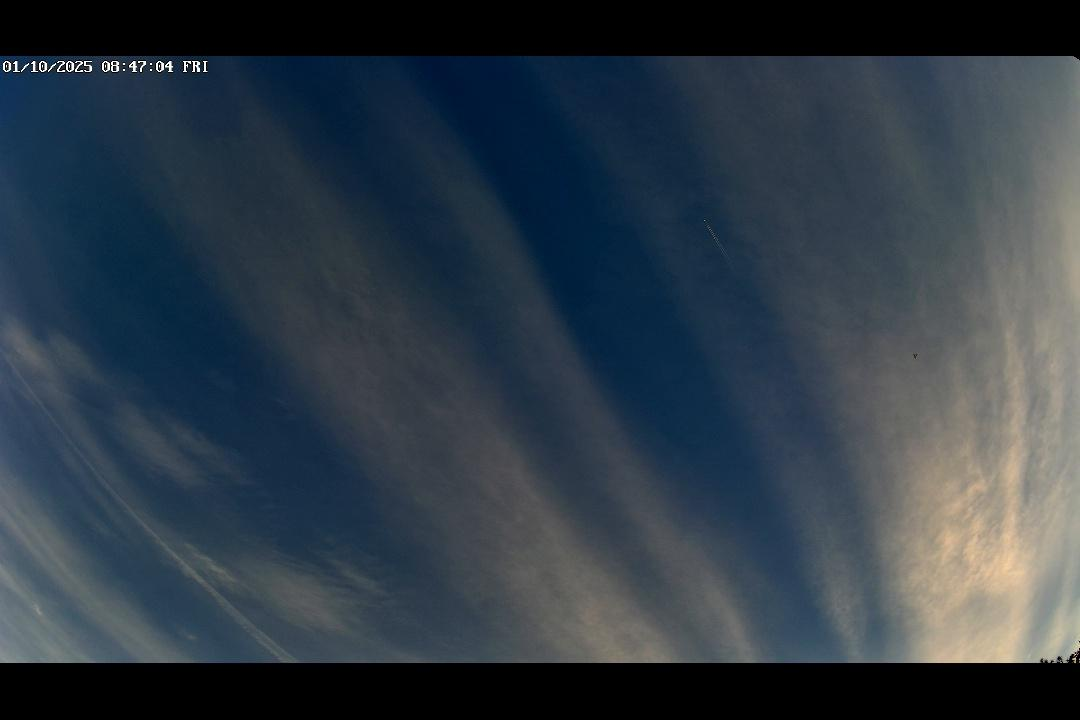Plane: (693, 218, 741, 265)
WildLife: (907, 349, 923, 362)
